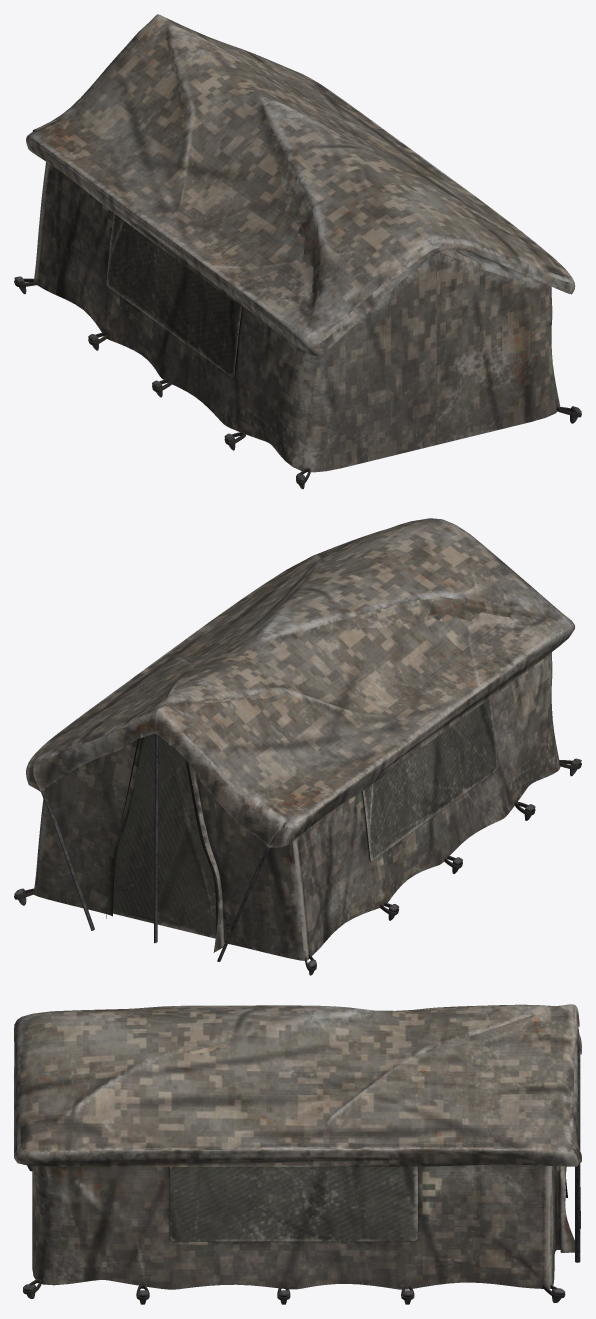
3 views of the same model, one above another, from view 1: azimuth 30°, elevation 25°; view 2: azimuth 150°, elevation 25°; view 3: azimuth 270°, elevation 25° (orthographic). The views are drawn at different scales.
Parts seen in each view (by area): view 1: ZHANGPENG_; view 2: ZHANGPENG_; view 3: ZHANGPENG_.
Boxes of the visible parts, <box> form: ZHANGPENG_: <box>14,14,581,489</box>; ZHANGPENG_: <box>14,518,581,975</box>; ZHANGPENG_: <box>14,1004,581,1304</box>.
Size of the model in its own units: 5.7 by 4.19 by 9.36.
Materials: 1 (1 with a texture image).
